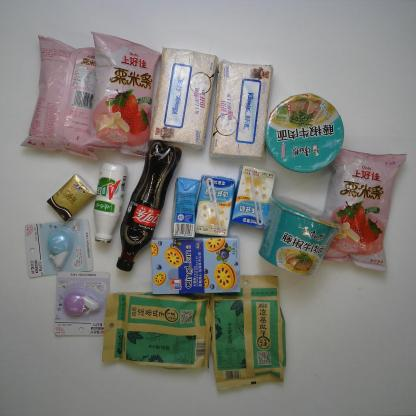Dessert: (148, 235, 244, 295)
Dried Food: (100, 290, 214, 373), (210, 272, 288, 391)
Drink: (115, 139, 182, 273)
Instant Noodles: (256, 192, 344, 280), (264, 93, 344, 176)
Milk: (231, 163, 276, 230), (194, 172, 238, 238), (93, 162, 127, 244), (168, 176, 202, 242)
Puffed Food: (18, 33, 106, 164), (323, 148, 409, 275), (80, 29, 162, 161)
Stationery: (22, 215, 93, 279), (51, 270, 110, 337)
Tissue: (147, 46, 221, 153), (208, 57, 276, 163), (44, 173, 98, 221)
